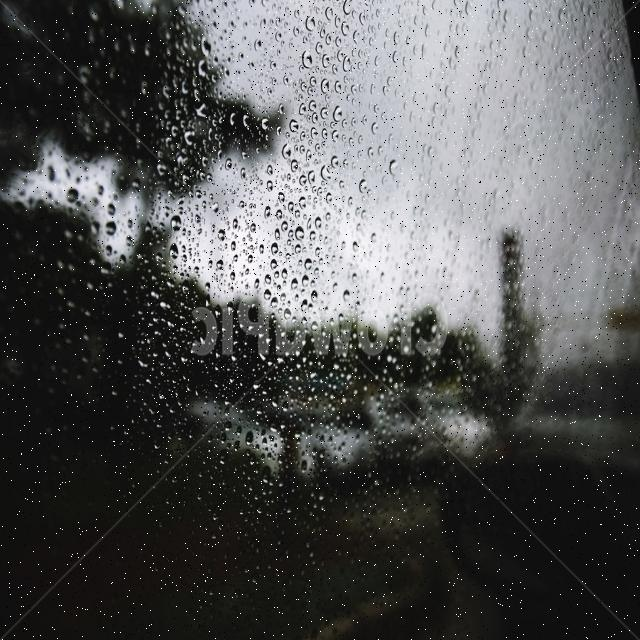raindrop: (292, 225, 306, 249), (260, 293, 274, 307), (264, 271, 274, 290), (271, 232, 281, 245)
